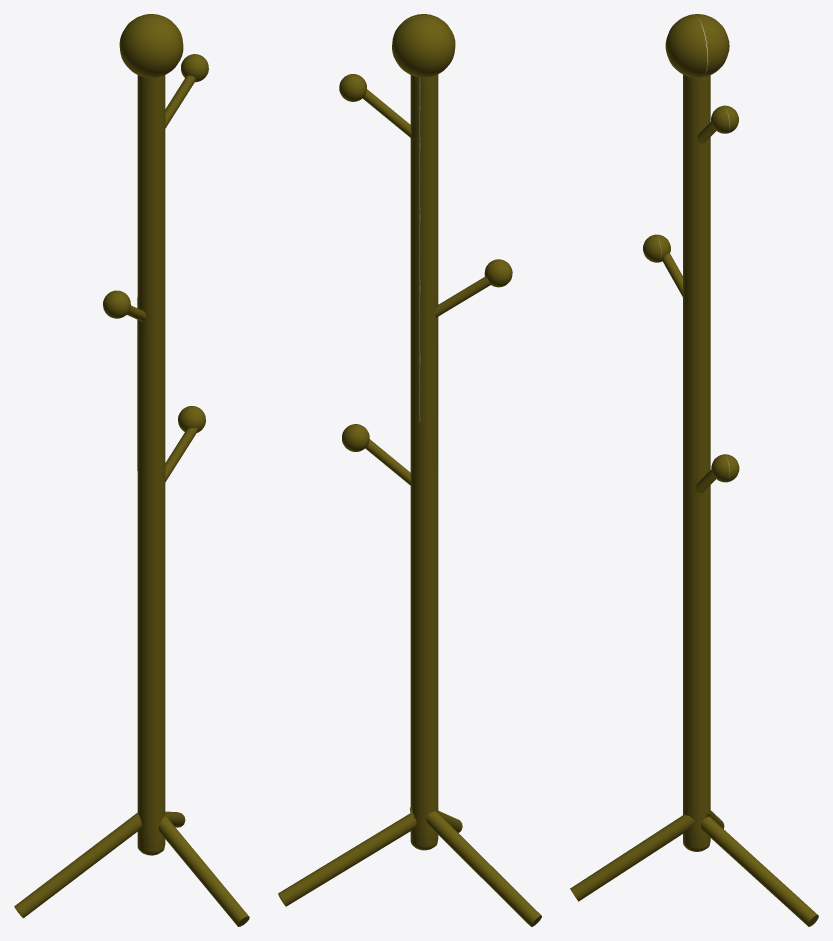
File: percheroMaya.obj
3 views of the same model, side by side, from view 1: azimuth 30°, elevation 25°; view 2: azimuth 150°, elevation 25°; view 3: azimuth 270°, elevation 25° (orthographic).
Visible parts, largest first — view 1: percheroMaya:polySurface4; view 2: percheroMaya:polySurface4; view 3: percheroMaya:polySurface4.
Part boxes in pixels (x1=…): percheroMaya:polySurface4: x1=14, y1=14, x2=249, y2=926; percheroMaya:polySurface4: x1=278, y1=14, x2=541, y2=926; percheroMaya:polySurface4: x1=570, y1=14, x2=818, y2=926.
Size of the model in its own units: 1.61 by 6.25 by 1.61.
1 material, 1 textured.
